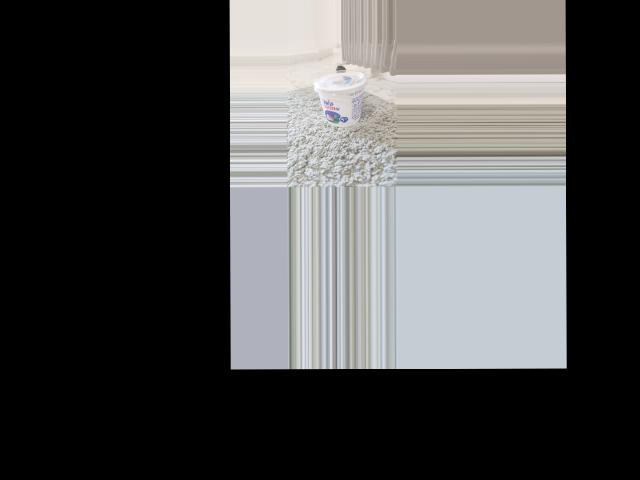cotage: (316, 70, 364, 128)
